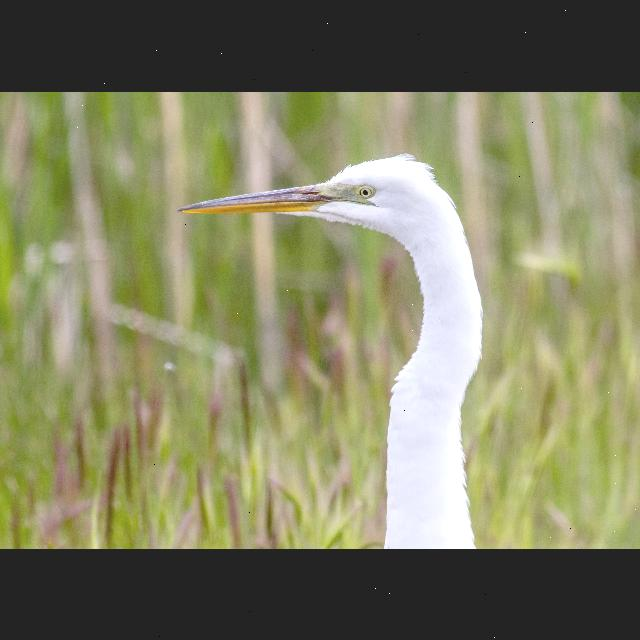egret: (170, 154, 494, 548)
